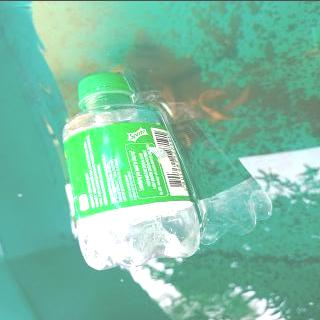bottle: (63, 71, 203, 270)
